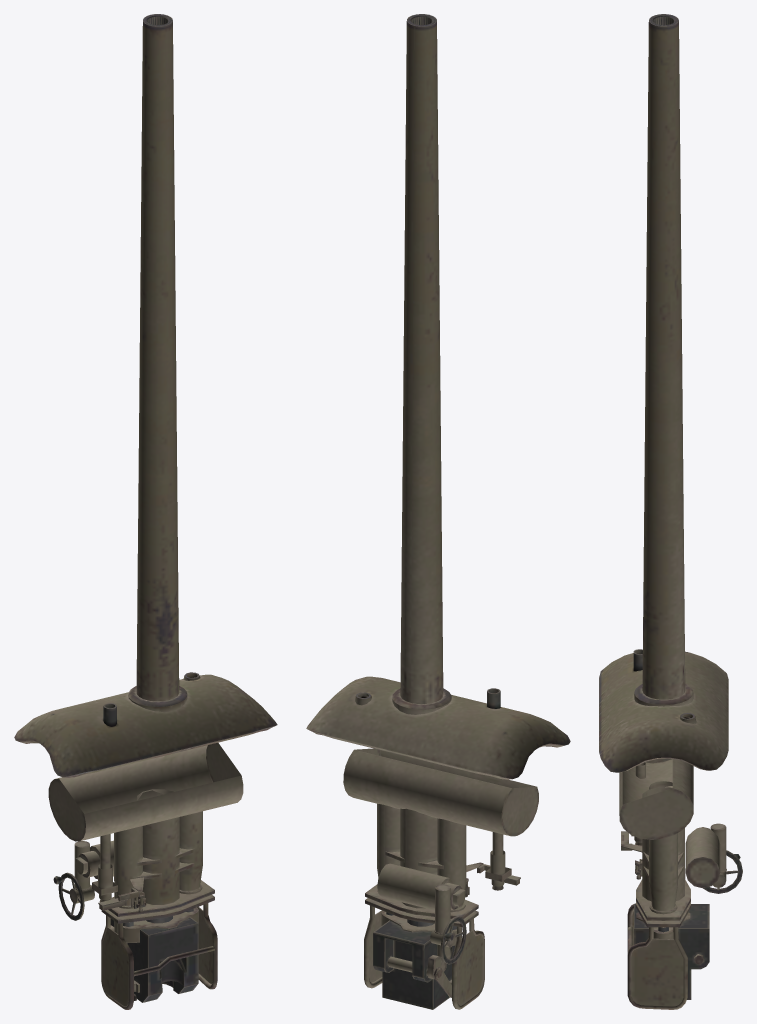
Rendered from Gun_03.glb.
The picture shows the model from 3 angles, left to right: view 1: azimuth 30°, elevation 25°; view 2: azimuth 150°, elevation 25°; view 3: azimuth 270°, elevation 25°; orthographic projection.
Visible parts, largest first — view 1: set_0_group_0; view 2: set_0_group_0; view 3: set_0_group_0.
Boxes of the visible parts, <box> form: set_0_group_0: <box>14,14,277,1009</box>; set_0_group_0: <box>306,14,570,1009</box>; set_0_group_0: <box>599,14,742,1009</box>.
Bounding box in the file's own units: 0.9091 × 3.86 × 0.5207.
Materials: 1 (1 with a texture image).
